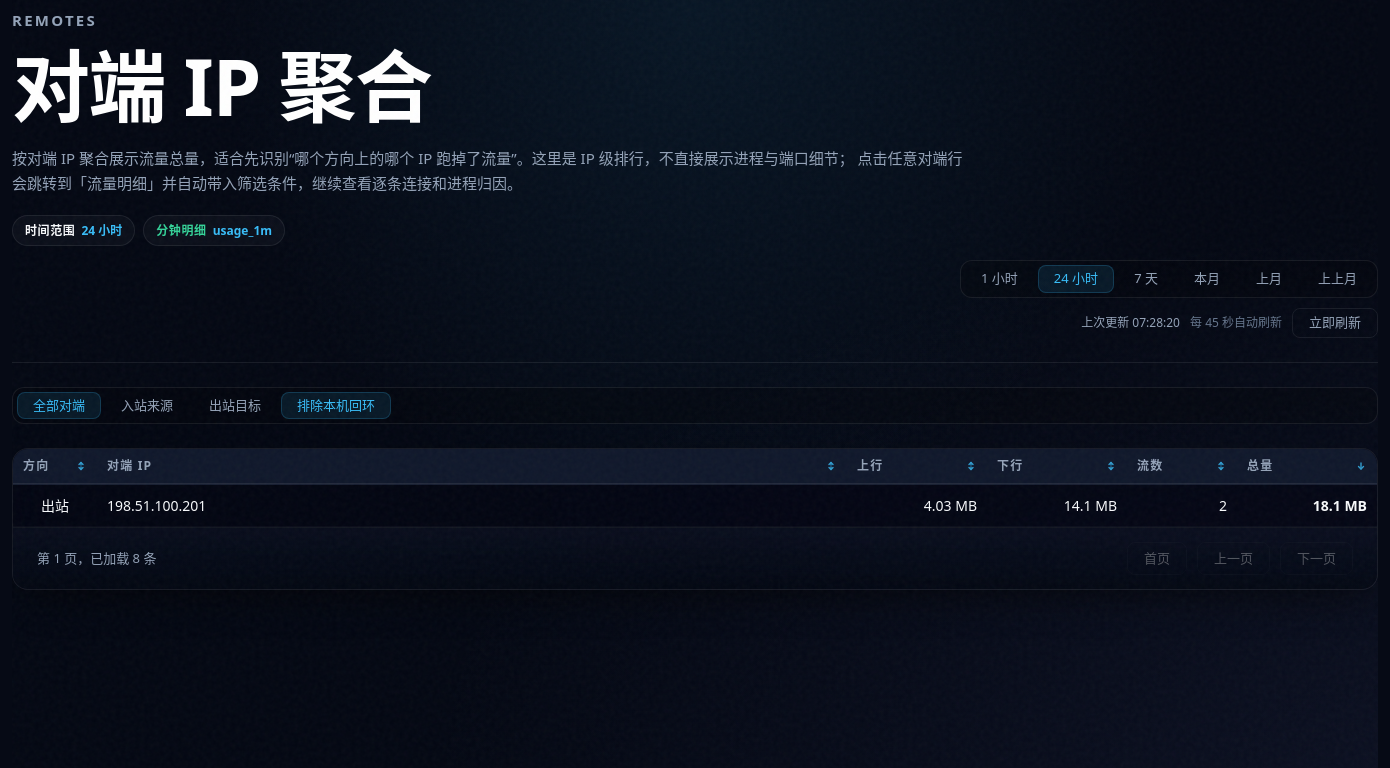
it: traffic-go web ui › does not leave previous remote rows actionable during a range change
The image size is (1390, 768).
Expected: the text "198.51.100.201" is shown, [107, 495, 206, 516]
Click the tab "7 天": click(1146, 279) [1118, 266, 1174, 293]
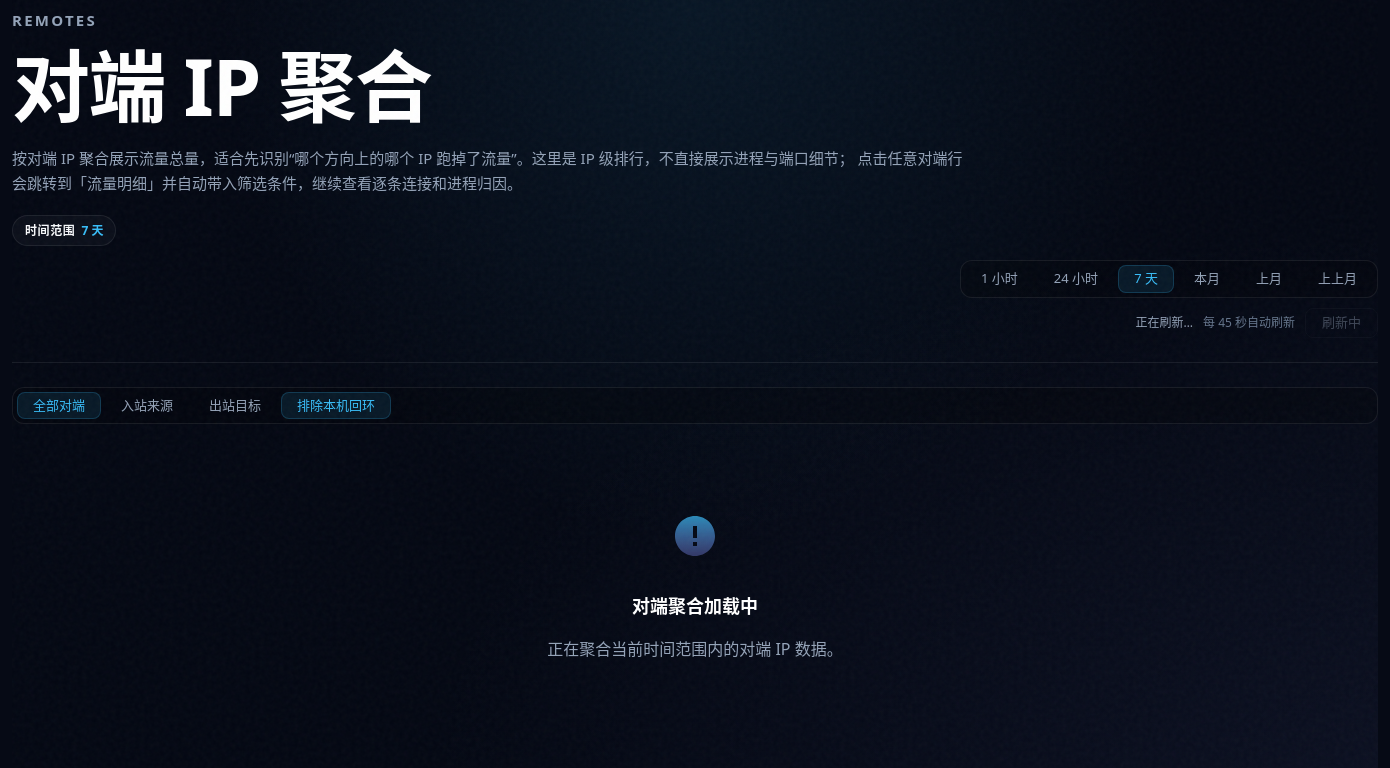
Expected: the heading "对端聚合加载中" is shown, [632, 592, 758, 621]
Expected: the text "198.51.100.201" is gone
Expected: the row "查看明细" is gone
